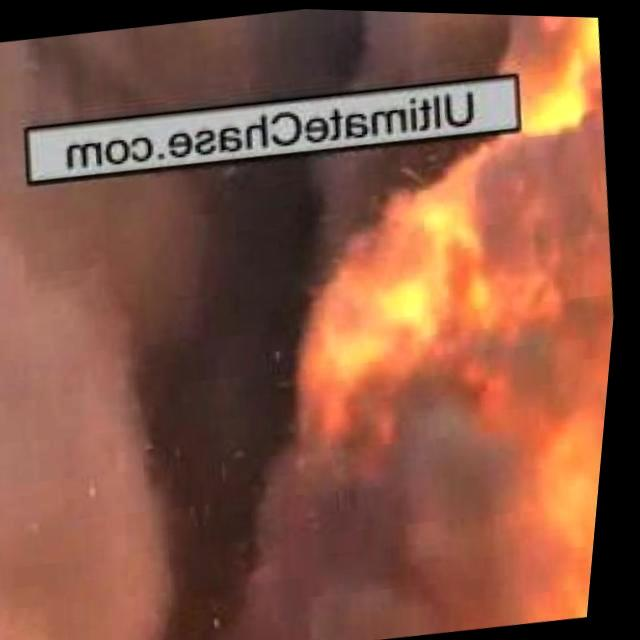fire: (234, 6, 640, 640)
